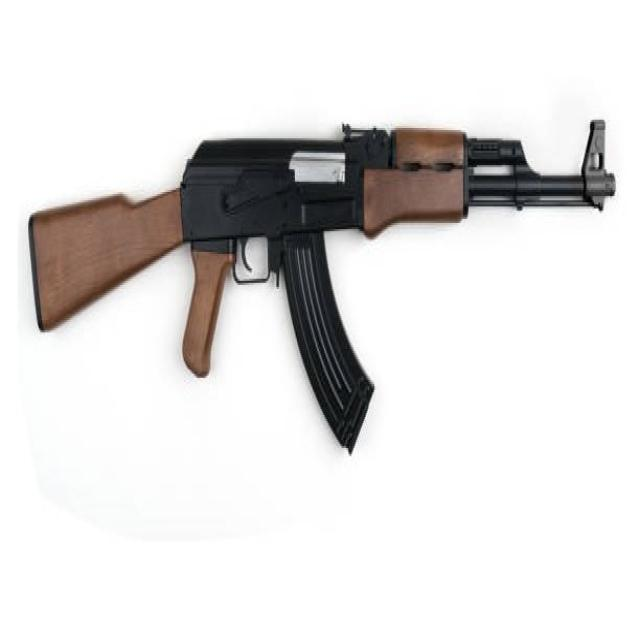rifle: (27, 114, 618, 468)
